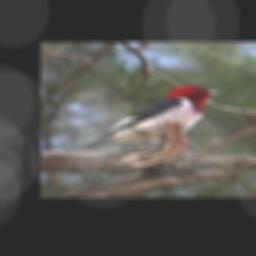Woodpecker: (64, 84, 234, 151)
